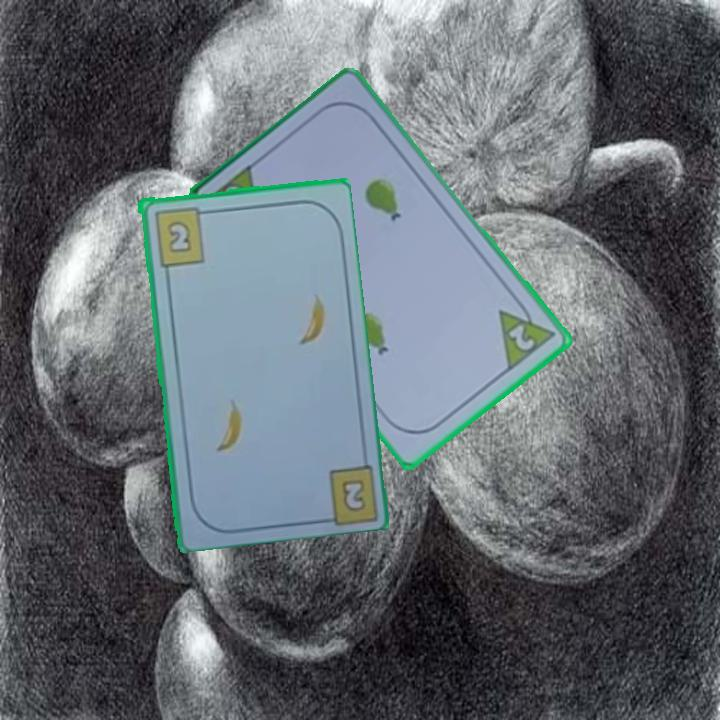2b: (150, 203, 212, 269), (337, 475, 369, 515)
2p: (495, 294, 560, 374)
